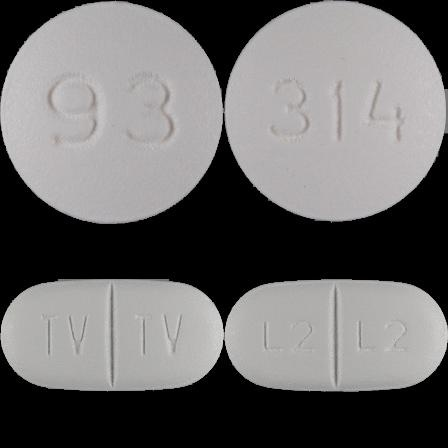42291-358: (0, 0, 224, 224)
